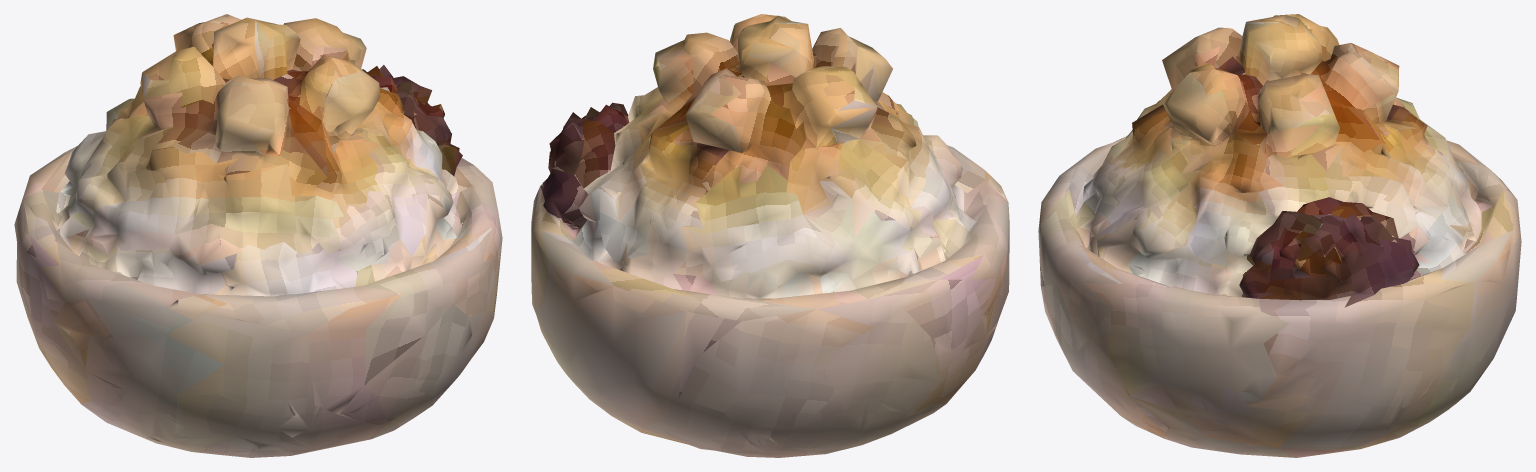
File: KR_사물_s1_food_tier2_kongkaru_bingsu.glb
3 views of the same model, side by side, from view 1: azimuth 30°, elevation 25°; view 2: azimuth 150°, elevation 25°; view 3: azimuth 270°, elevation 25° (orthographic).
Visible parts, largest first — view 1: tripo_node_dac2743e-b22e-4bb7-9d65-43668f41a162; view 2: tripo_node_dac2743e-b22e-4bb7-9d65-43668f41a162; view 3: tripo_node_dac2743e-b22e-4bb7-9d65-43668f41a162.
Part boxes in pixels (box(x1,y1,x2,y2)): tripo_node_dac2743e-b22e-4bb7-9d65-43668f41a162: box(14, 14, 502, 457); tripo_node_dac2743e-b22e-4bb7-9d65-43668f41a162: box(531, 14, 1009, 457); tripo_node_dac2743e-b22e-4bb7-9d65-43668f41a162: box(1038, 14, 1521, 457).
Size of the model in its own units: 0.9993 by 0.857 by 0.9993.
1 material, 1 textured.
